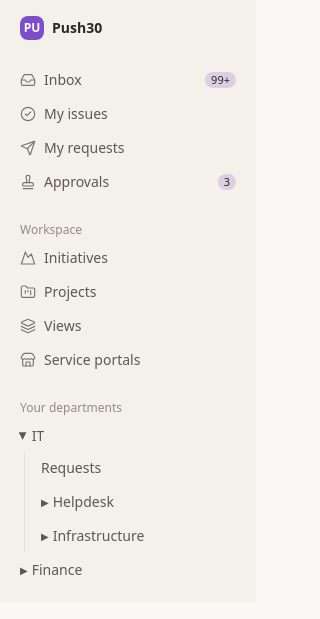
Scenario: Sidebar › collapses a department
Click the button "▶ IT": (128, 436) [12, 420, 244, 452]
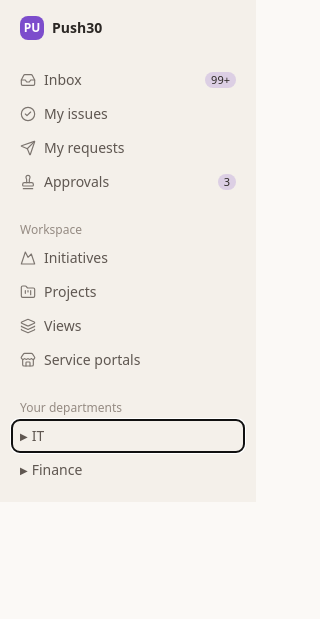
expect the button "Helpdesk" is gone: met
